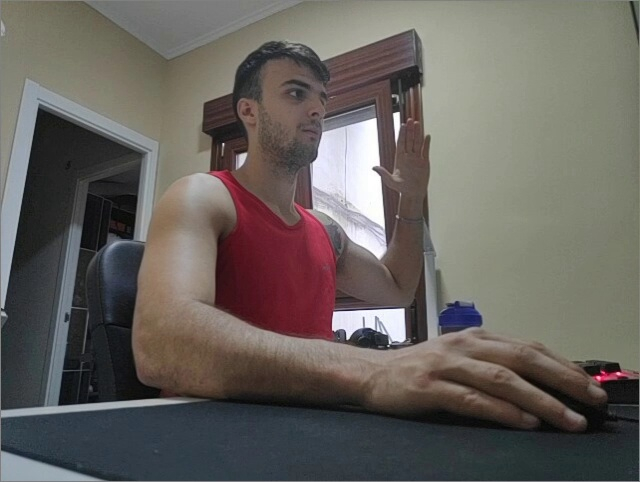Palm: (370, 117, 432, 198)
